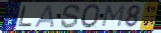8: (124, 3, 142, 29)
A: (33, 4, 56, 28)
L: (18, 5, 34, 28)
M: (100, 4, 127, 28)
O: (80, 3, 102, 29)
S: (59, 3, 82, 30)
